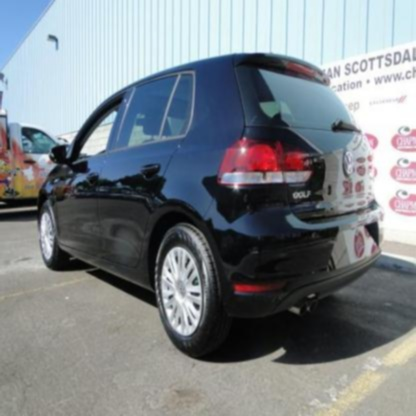Vehicle: (38, 52, 386, 361)
